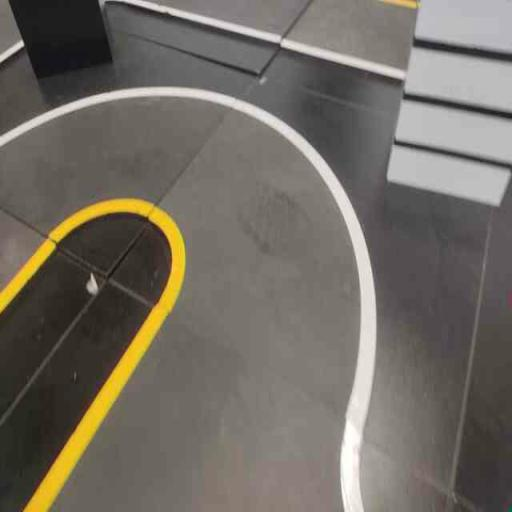left: (107, 74, 401, 443)
